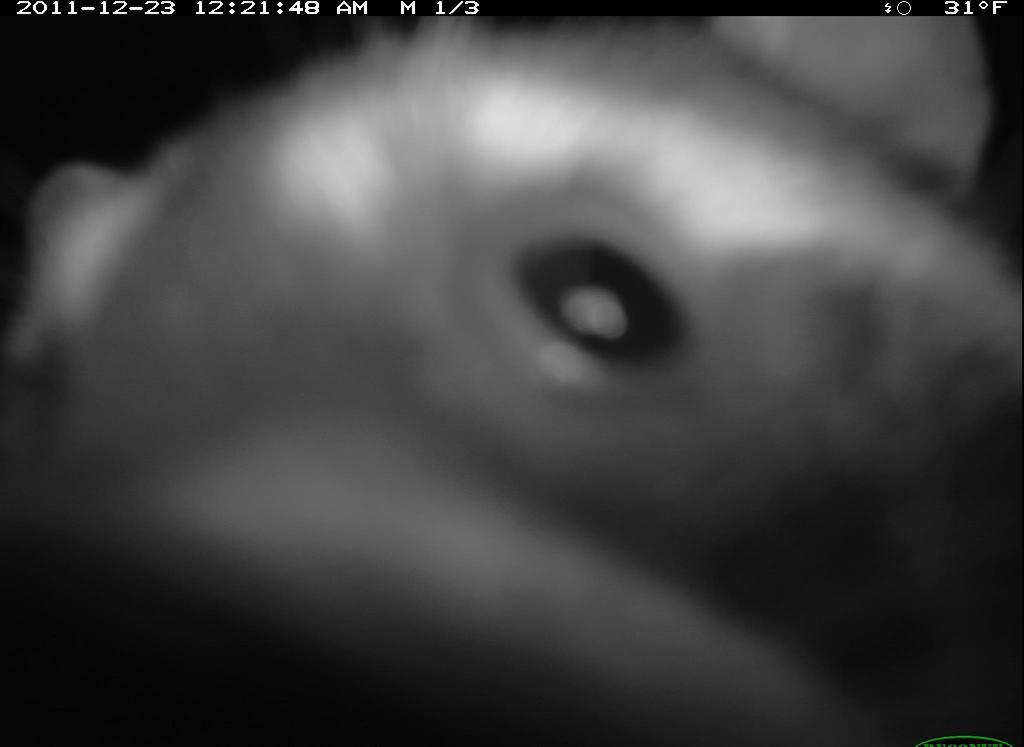raccoon: (29, 12, 1023, 739)
